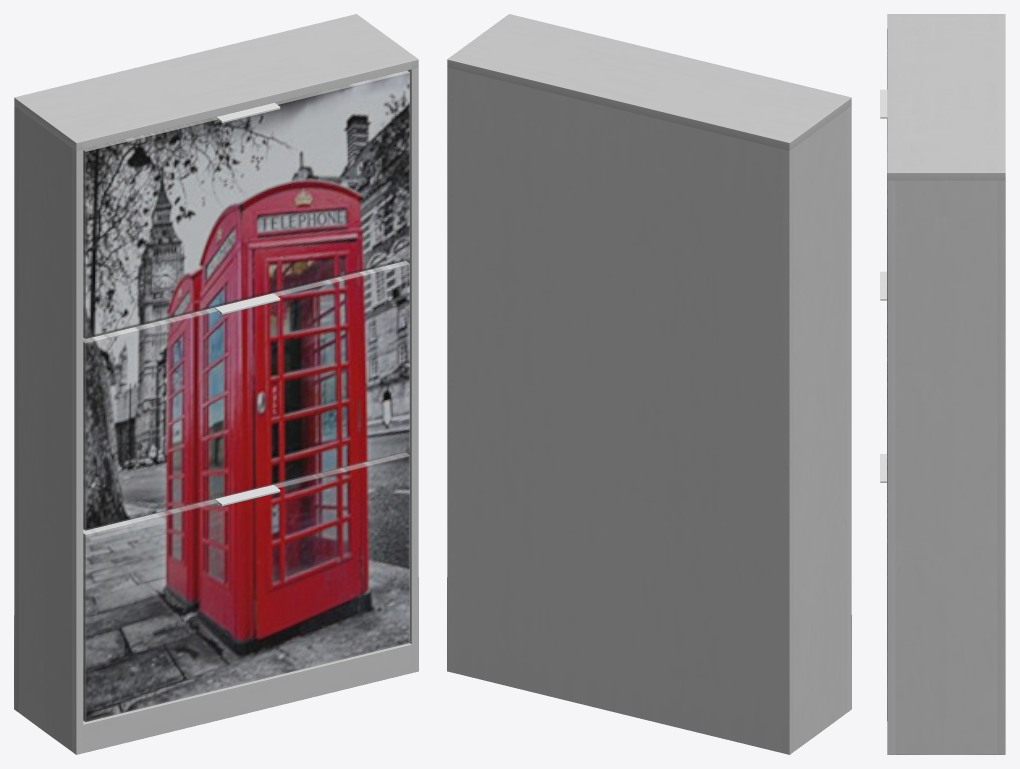
3 renders of one model, left to right at view 1: azimuth 30°, elevation 25°; view 2: azimuth 150°, elevation 25°; view 3: azimuth 270°, elevation 25°, orthographic. The views are drawn at different scales.
Visible parts, largest first — view 1: RootNode; view 2: RootNode; view 3: RootNode.
Boxes of the visible parts, bbox=[...] form: RootNode: bbox=[14, 14, 418, 754]; RootNode: bbox=[447, 14, 851, 754]; RootNode: bbox=[880, 14, 1005, 754].
Size of the model in its own units: 0.75 by 1.28 by 0.25.
Materials: 1 (1 with a texture image).
